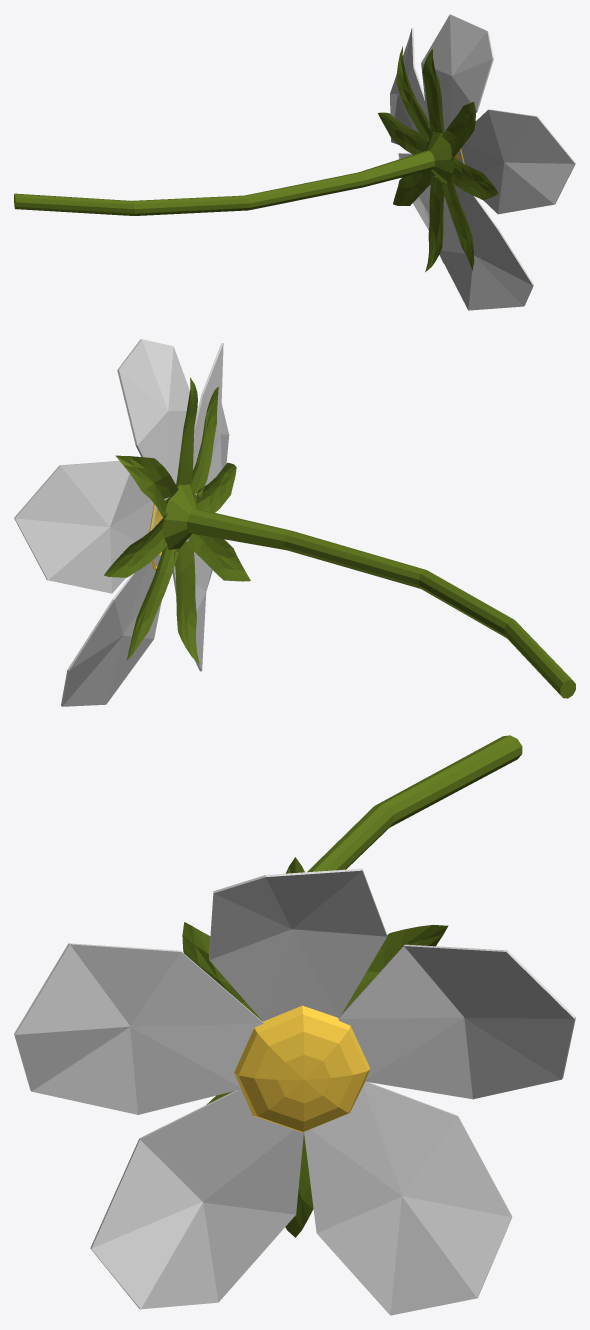
Rendered from StrawberryFlower.obj.
3 renders of one model, top to bottom at view 1: azimuth 30°, elevation 25°; view 2: azimuth 150°, elevation 25°; view 3: azimuth 270°, elevation 25°, orthographic. The views are drawn at different scales.
Parts seen in each view (by area): view 1: petals, sepal; view 2: petals, sepal; view 3: petals, sepal.
Part boxes in pixels (left/top/right/bottom): petals: left=390, top=14, right=575, bottom=310; sepal: left=14, top=46, right=497, bottom=272; petals: left=14, top=339, right=229, bottom=706; sepal: left=104, top=377, right=575, bottom=698; petals: left=14, top=868, right=575, bottom=1315; sepal: left=182, top=735, right=522, bottom=1237.
Bounding box in the file's own units: 1.3 × 0.7687 × 0.8607.
